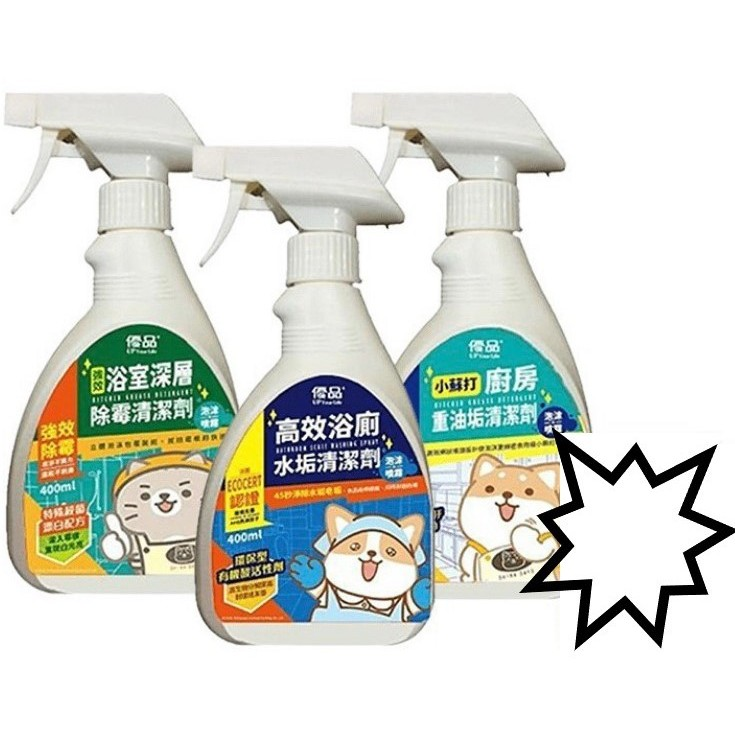cleaner: (184, 134, 438, 653), (347, 84, 595, 604), (1, 78, 239, 604)
